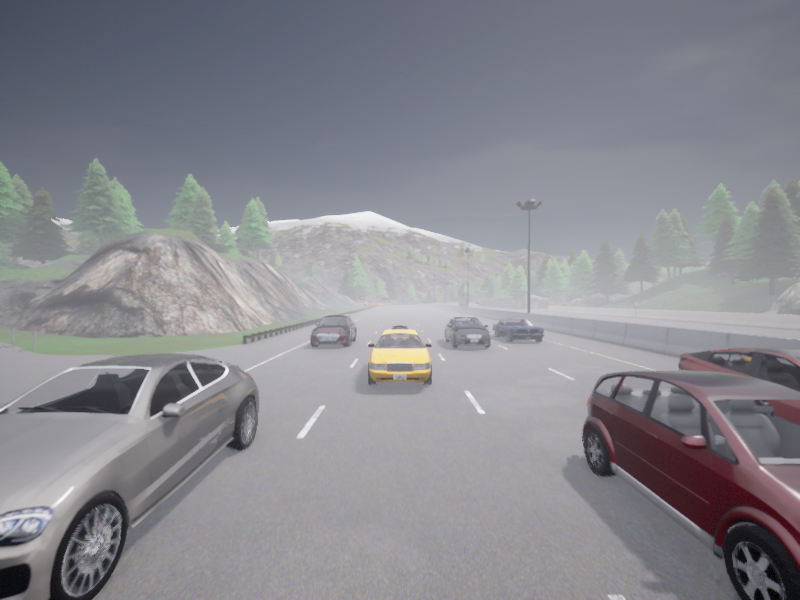vehicle: (0, 354, 259, 599), (582, 370, 799, 599), (678, 347, 799, 391), (368, 325, 431, 385), (310, 314, 356, 347), (445, 317, 490, 348), (493, 318, 544, 342), (459, 301, 464, 305), (475, 302, 480, 303)
